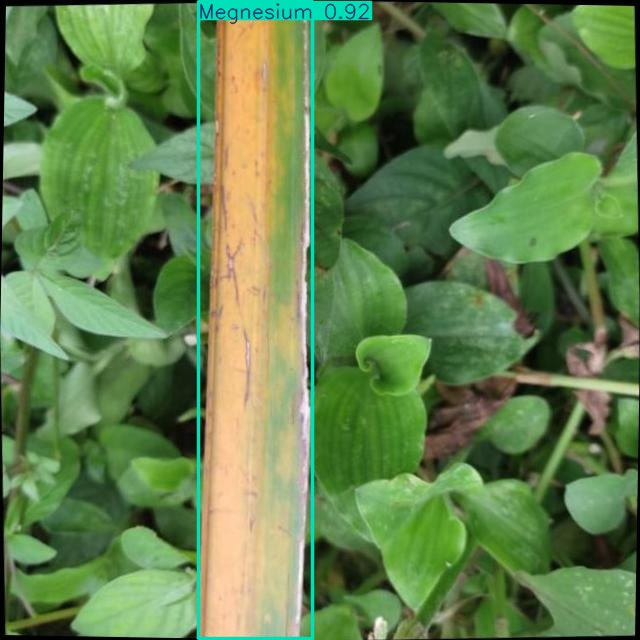Megnesium: (199, 1, 312, 639)
